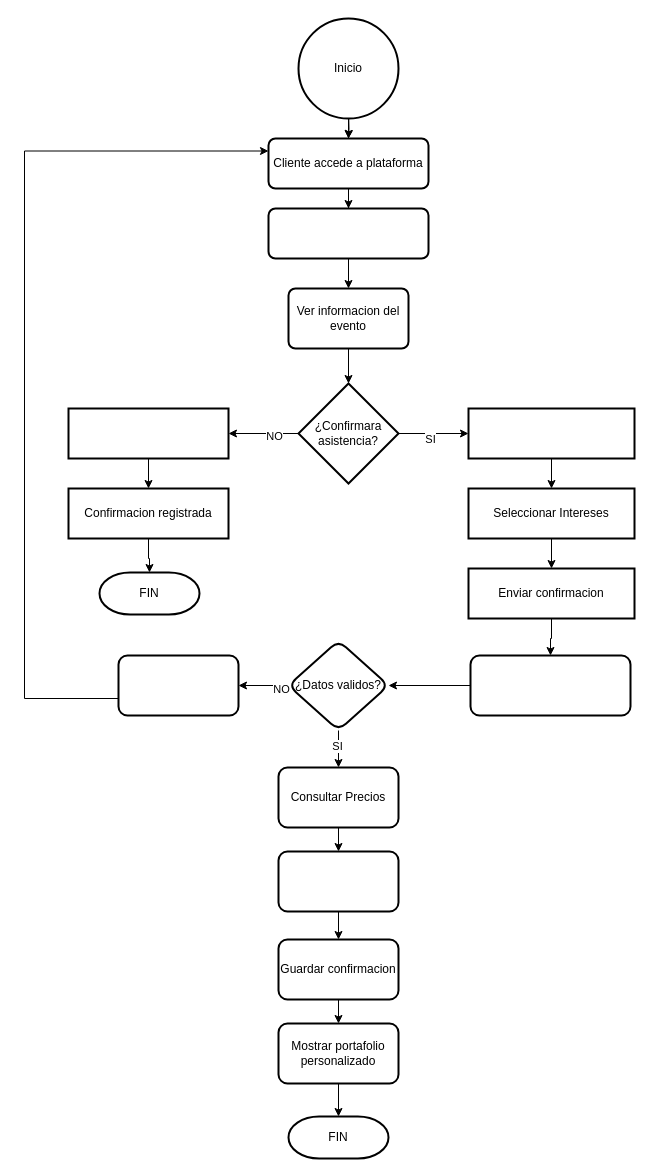
Some shapes in this 653 by 1176 pixel diagram are drawn without their labels. Each missing label, with the centre of its shape:
"Backend valida datos" belongs at point (550, 685).
"Consultar Descuentos" belongs at point (338, 881).
"Identificacion" belongs at point (348, 233).
"Mostrar Error" belongs at point (178, 685).
"Mostrar Servicios y Productos" belongs at point (551, 433).
"Registrar que no asistira" belongs at point (148, 433).
